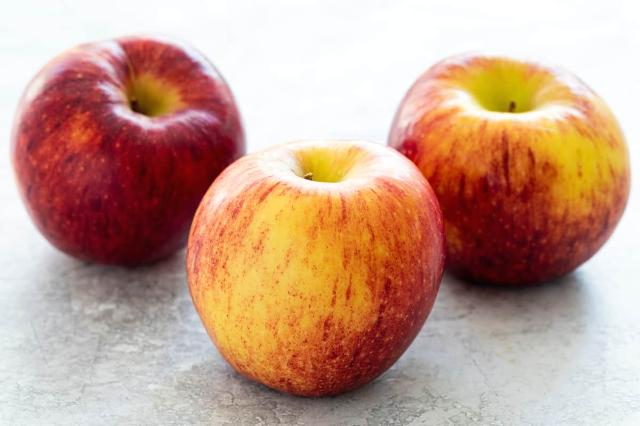red apple: (189, 141, 445, 396), (385, 52, 633, 289), (14, 36, 249, 269)
